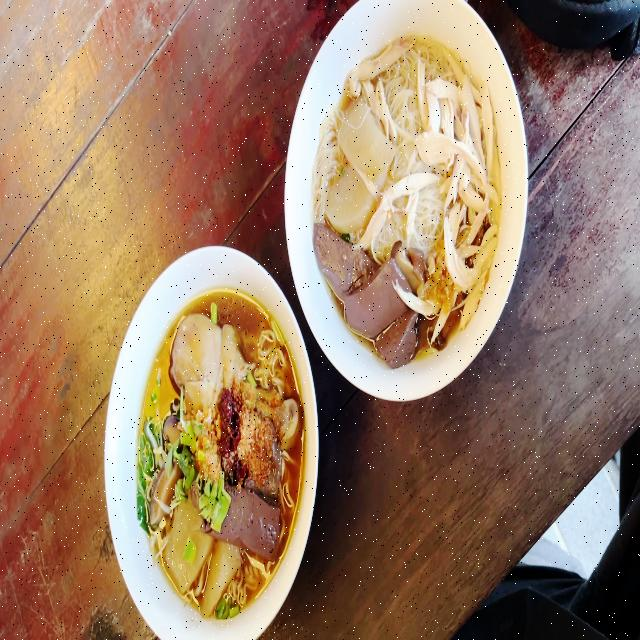boiled_chicken_blood_jelly: (218, 480, 281, 550), (317, 228, 369, 296), (352, 256, 398, 318), (230, 491, 277, 550), (384, 306, 416, 355)
chicken_drumstick: (173, 313, 299, 443)
chicken_shredded: (424, 49, 505, 313)
daikon_radish: (166, 502, 213, 596), (344, 100, 392, 182), (334, 172, 375, 228), (204, 544, 241, 605)
noodle: (311, 25, 497, 358), (128, 292, 312, 616)
